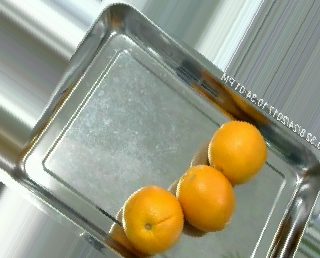Orange: (122, 185, 184, 252), (176, 164, 234, 232), (207, 119, 267, 183)
